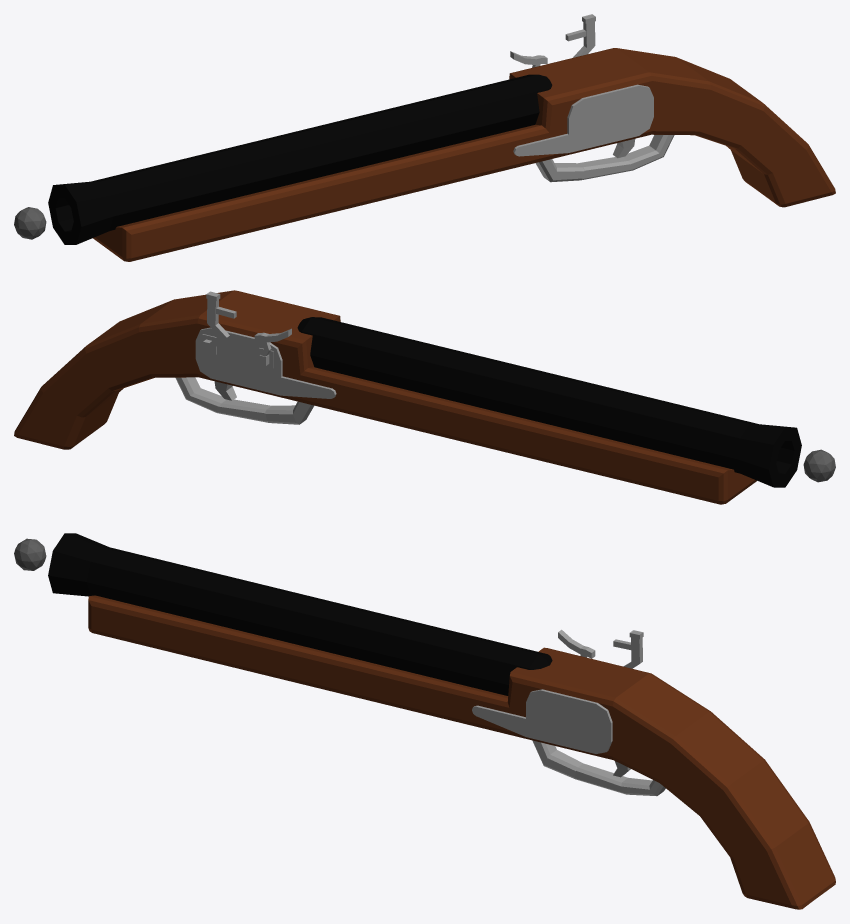
File: Flintlock.fbx
3 views of the same model, one above another, from view 1: azimuth 30°, elevation 25°; view 2: azimuth 150°, elevation 25°; view 3: azimuth 330°, elevation 25° (orthographic).
Visible parts, largest first — view 1: Gun, Bullet; view 2: Gun, Bullet; view 3: Gun, Bullet.
Part boxes in pixels (bbox=[...]): Gun: bbox=[48, 14, 835, 261]; Bullet: bbox=[14, 207, 46, 239]; Gun: bbox=[14, 290, 801, 504]; Bullet: bbox=[803, 449, 835, 482]; Gun: bbox=[48, 533, 835, 909]; Bullet: bbox=[14, 538, 46, 570].
Bounding box in the file's own units: 28.58 × 6.76 × 2.92.
